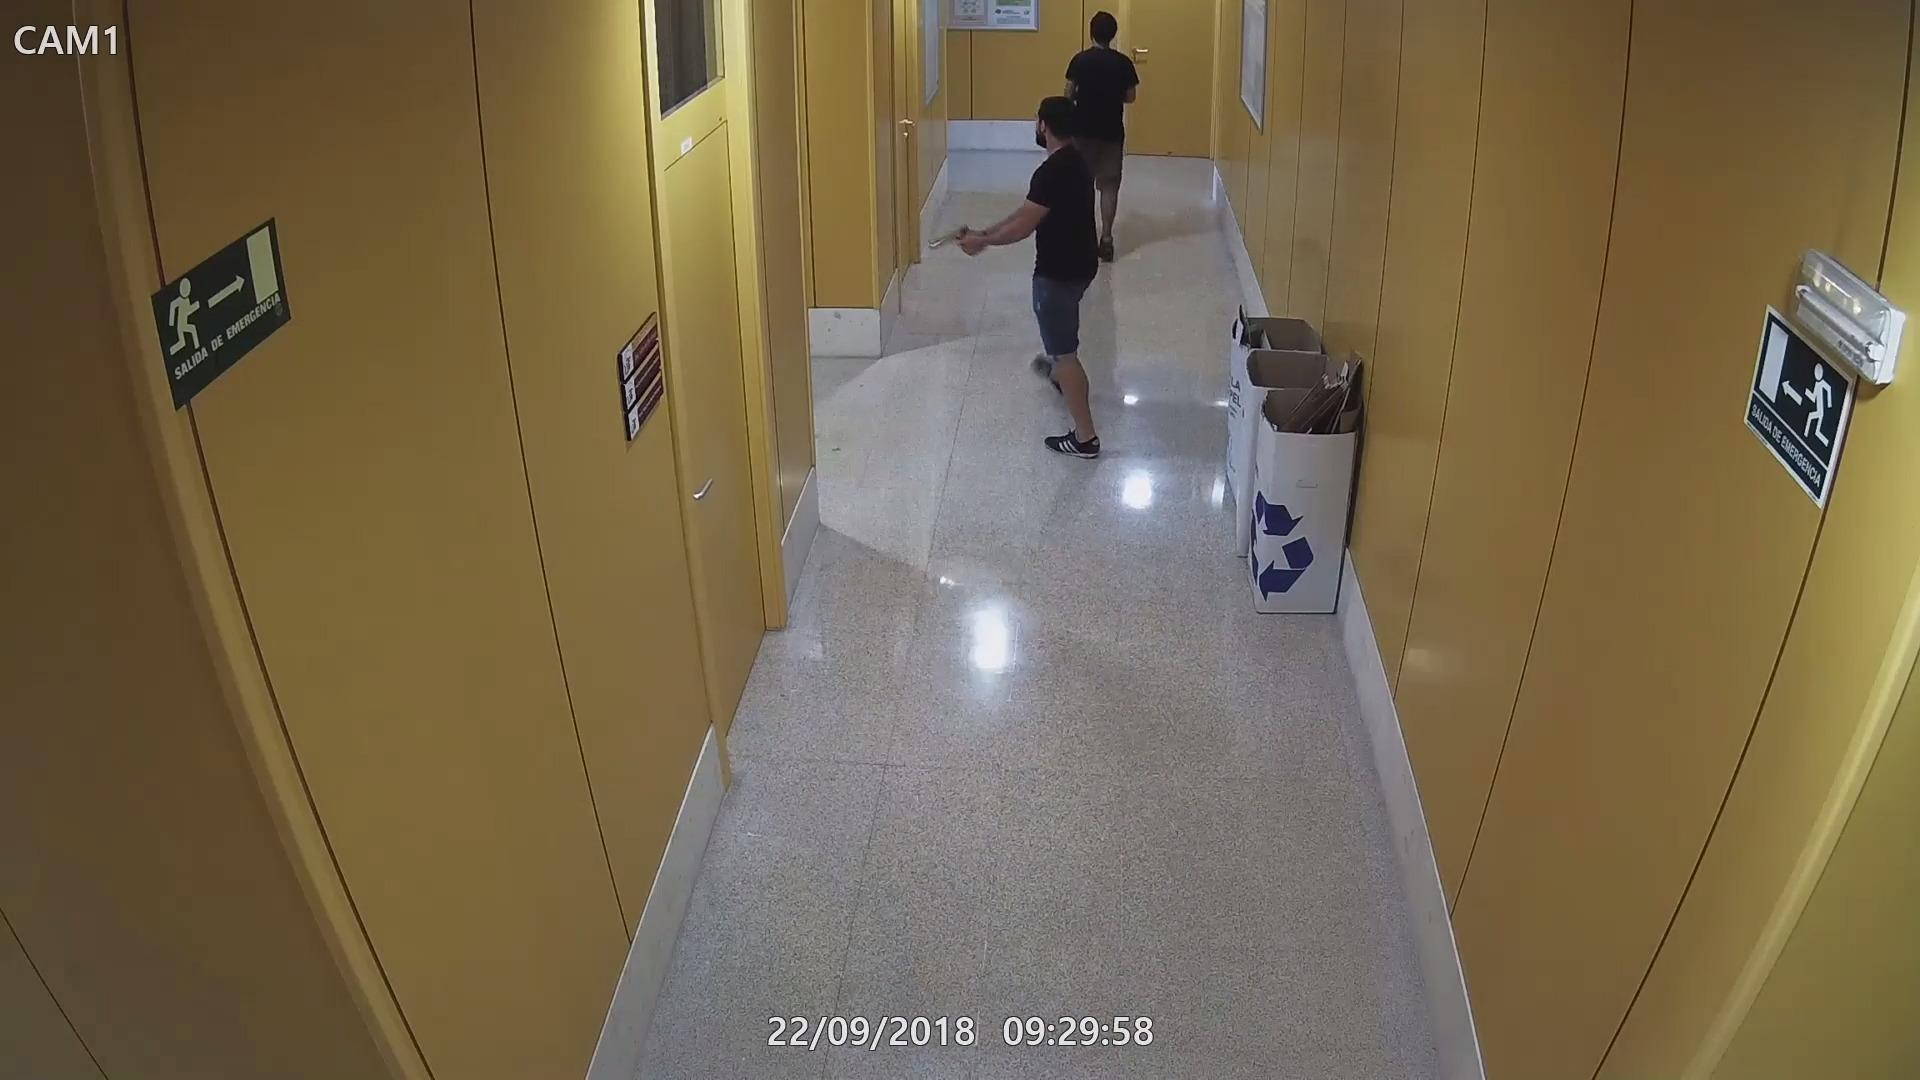Handgun: (926, 224, 989, 257)
